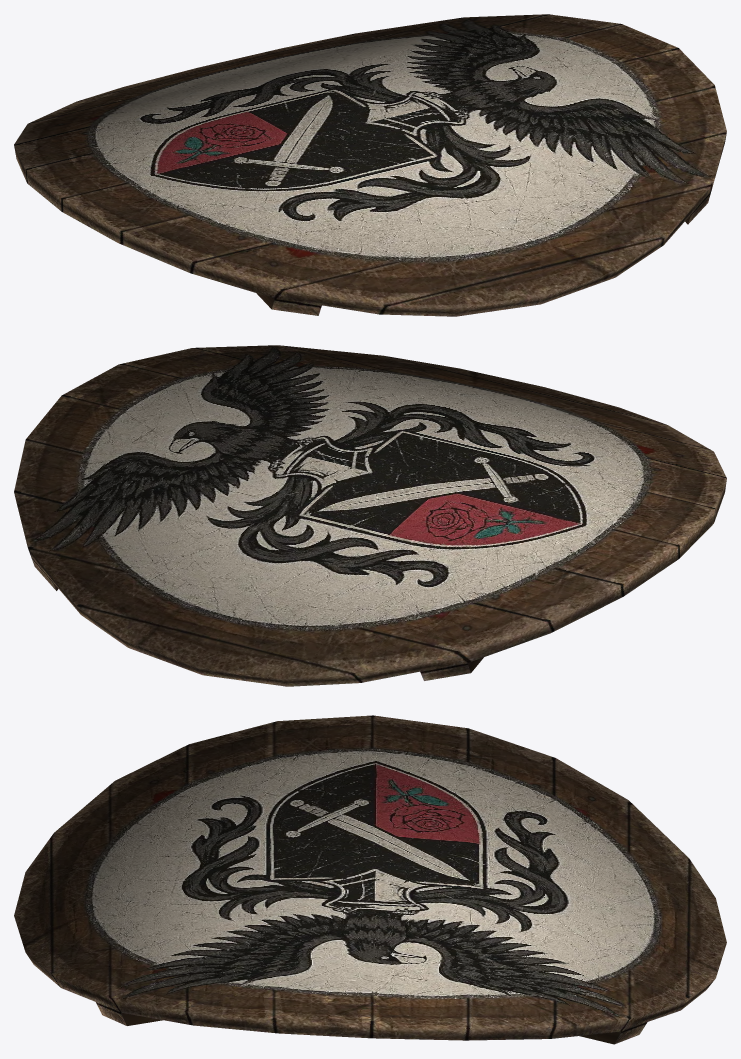
The model's file is ITSH_SHIELD_CHEVALIER_DE_NOIVRAL.glb.
The picture shows the model from 3 angles, top to bottom: view 1: azimuth 30°, elevation 25°; view 2: azimuth 150°, elevation 25°; view 3: azimuth 270°, elevation 25°; orthographic projection. The views are drawn at different scales.
Visible parts, largest first — view 1: Mesh; view 2: Mesh; view 3: Mesh.
Part boxes in pixels (<box>): Mesh: <box>14,14,726,316</box>; Mesh: <box>14,345,726,686</box>; Mesh: <box>14,715,726,1044</box>.
Bounding box in the file's own units: 0.752 × 0.0952 × 0.7322.
Materials: 1 (1 with a texture image).
